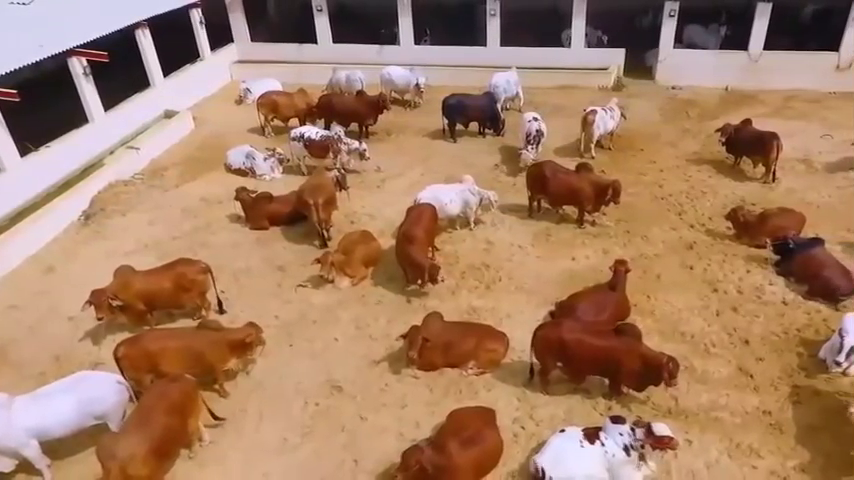bo: (1, 356, 139, 477), (521, 316, 689, 401), (94, 367, 218, 480), (87, 242, 223, 329), (123, 311, 272, 390), (521, 405, 680, 479), (388, 304, 512, 381), (522, 145, 627, 233), (546, 249, 645, 335), (757, 227, 854, 309), (402, 401, 505, 474), (280, 151, 349, 239), (407, 171, 502, 234), (717, 189, 812, 248), (285, 123, 380, 180), (712, 111, 783, 187), (667, 8, 746, 71), (396, 198, 446, 296), (318, 219, 382, 295), (225, 170, 296, 238), (435, 84, 508, 145), (217, 126, 295, 177), (316, 90, 390, 141), (575, 94, 628, 160), (551, 12, 613, 62), (378, 60, 429, 115), (475, 55, 526, 109), (257, 90, 313, 126), (512, 108, 547, 163), (233, 66, 282, 105), (319, 61, 367, 97)
